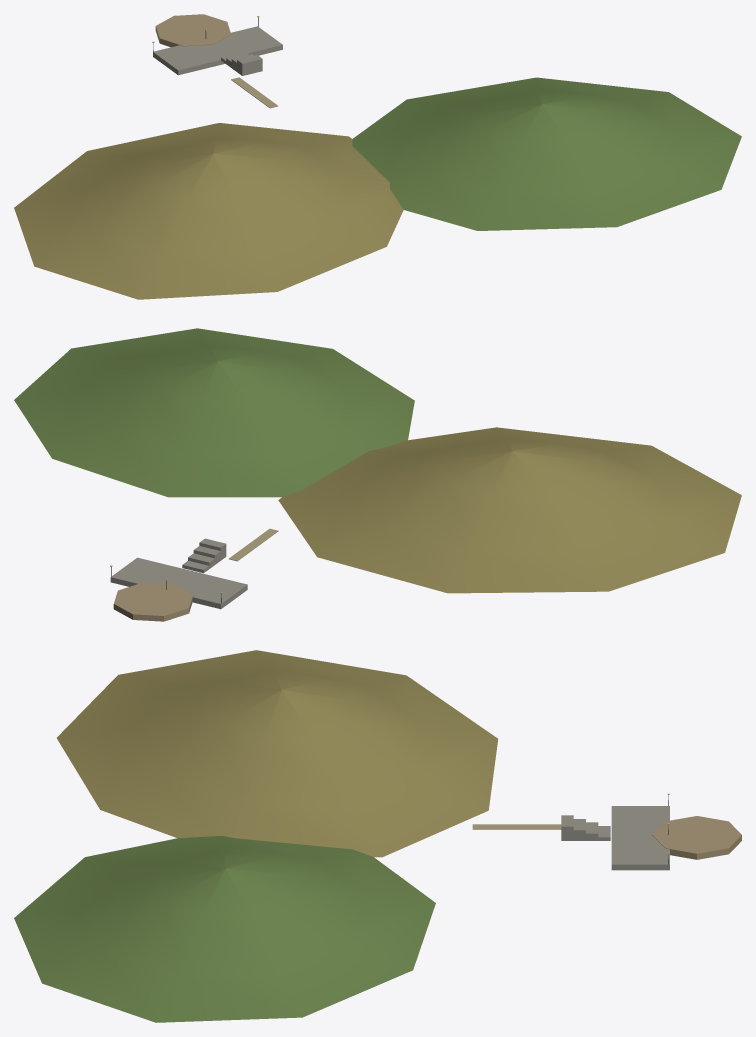
Rendered from mobile-low.glb.
3 renders of one model, top to bottom at view 1: azimuth 30°, elevation 25°; view 2: azimuth 150°, elevation 25°; view 3: azimuth 270°, elevation 25°, orthographic. The views are drawn at different scales.
Visible parts, largest first — view 1: lm.twin-peaks; view 2: lm.twin-peaks; view 3: lm.twin-peaks.
Part boxes in pixels (x1,y1,x2,y2): lm.twin-peaks: (14, 14, 741, 299); lm.twin-peaks: (14, 328, 741, 621); lm.twin-peaks: (14, 650, 741, 1022).
Size of the model in its own units: 393 by 33 by 324.
